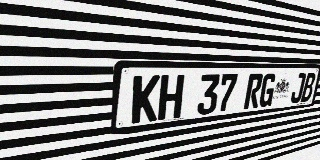3: (196, 74, 220, 116)
7: (216, 74, 238, 113)
B: (300, 73, 316, 102)
G: (258, 73, 277, 108)
H: (157, 75, 185, 121)
J: (290, 73, 307, 104)
K: (131, 75, 160, 124)
R: (243, 74, 264, 110)
